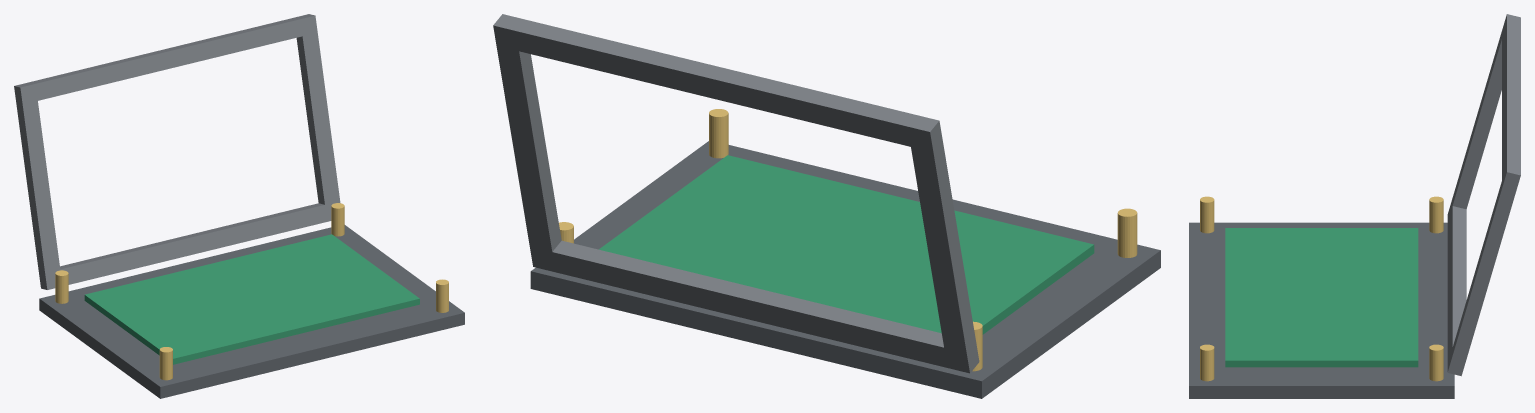
Rendered from case-exposed.glb.
The picture shows the model from 3 angles, left to right: view 1: azimuth 30°, elevation 25°; view 2: azimuth 150°, elevation 25°; view 3: azimuth 270°, elevation 25°; orthographic projection. The views are drawn at different scales.
Parts seen in each view (by area): view 1: geometry_5, geometry_0, geometry_6, geometry_7, geometry_8, geometry_9, geometry_1, geometry_3, geometry_2, geometry_4; view 2: geometry_5, geometry_0, geometry_6, geometry_7, geometry_8, geometry_9, geometry_2, geometry_4; view 3: geometry_5, geometry_0, geometry_9, geometry_6, geometry_7, geometry_8, geometry_2, geometry_4, geometry_3, geometry_1.
Boxes of the visible parts, left/top/right/bottom form: geometry_5: left=84, top=234, right=419, bottom=364; geometry_0: left=39, top=225, right=464, bottom=398; geometry_6: left=14, top=14, right=317, bottom=104; geometry_7: left=39, top=202, right=339, bottom=289; geometry_8: left=15, top=83, right=60, bottom=289; geometry_9: left=296, top=14, right=340, bottom=219; geometry_1: left=55, top=270, right=68, bottom=303; geometry_3: left=331, top=203, right=344, bottom=236; geometry_2: left=159, top=347, right=172, bottom=380; geometry_4: left=436, top=279, right=448, bottom=312; geometry_5: left=599, top=155, right=1094, bottom=334; geometry_0: left=530, top=141, right=1160, bottom=398; geometry_6: left=493, top=14, right=941, bottom=152; geometry_7: left=530, top=240, right=979, bottom=373; geometry_8: left=907, top=116, right=978, bottom=372; geometry_9: left=493, top=14, right=561, bottom=272; geometry_2: left=1117, top=208, right=1137, bottom=257; geometry_4: left=709, top=109, right=728, bottom=158; geometry_5: left=1225, top=228, right=1418, bottom=367; geometry_0: left=1189, top=222, right=1454, bottom=398; geometry_9: left=1447, top=164, right=1520, bottom=375; geometry_6: left=1502, top=14, right=1520, bottom=192; geometry_7: left=1447, top=198, right=1466, bottom=376; geometry_8: left=1452, top=15, right=1520, bottom=209; geometry_2: left=1200, top=196, right=1214, bottom=233; geometry_4: left=1200, top=344, right=1214, bottom=381; geometry_3: left=1429, top=344, right=1443, bottom=381; geometry_1: left=1429, top=196, right=1443, bottom=233.
Size of the model in its own units: 0.32 by 0.2051 by 0.275.
